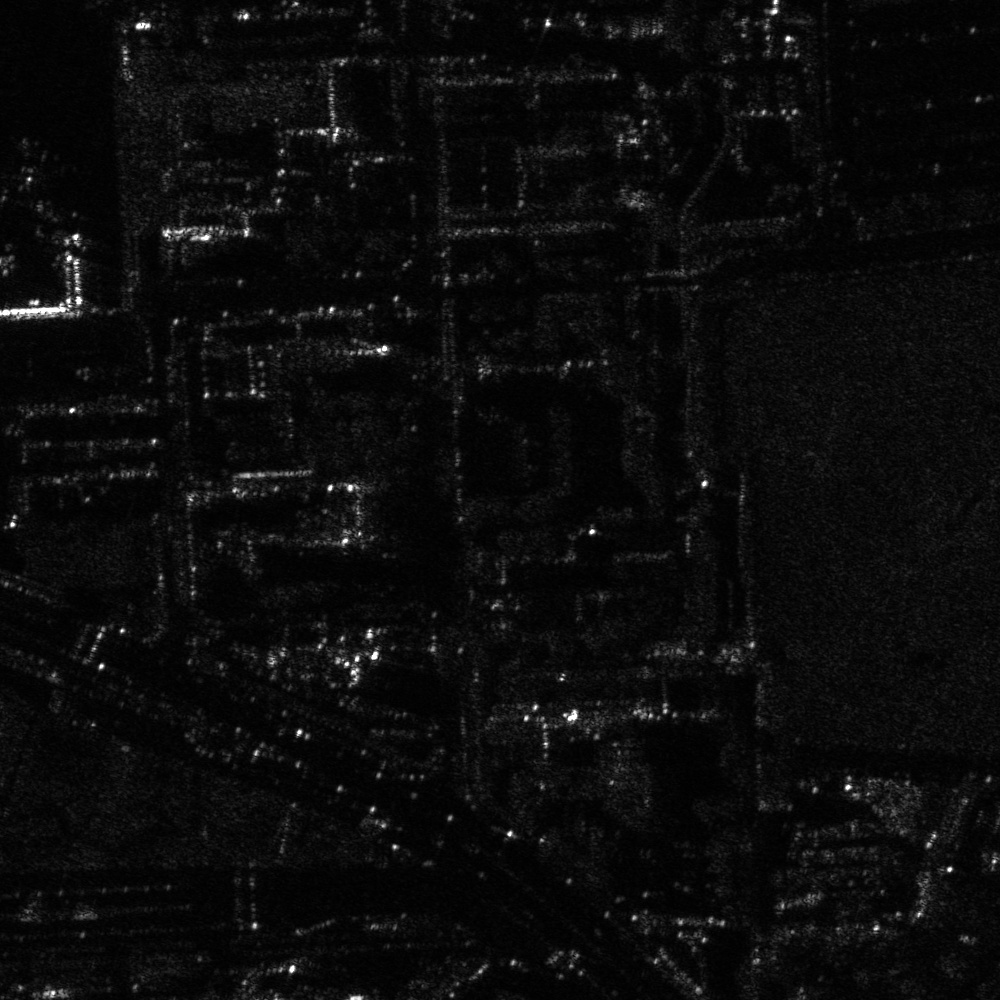A220: (1, 132, 82, 223)
